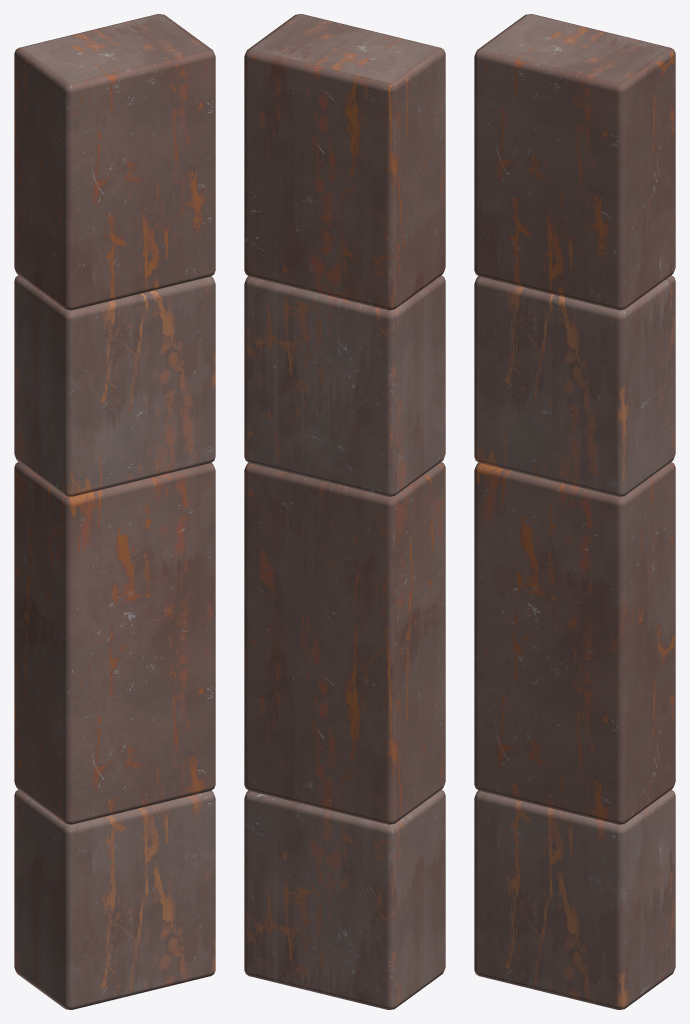
Rendered from wall_007.fbx.
3 views of the same model, side by side, from view 1: azimuth 30°, elevation 25°; view 2: azimuth 150°, elevation 25°; view 3: azimuth 330°, elevation 25° (orthographic).
Parts seen in each view (by area): view 1: wall_007; view 2: wall_007; view 3: wall_007.
Boxes of the visible parts, box(x1,y1,x2,y2) form: wall_007: box(14, 14, 215, 1009); wall_007: box(244, 14, 445, 1009); wall_007: box(474, 14, 675, 1009).
Bounding box in the file's own units: 2356 × 1500 × 13775.
